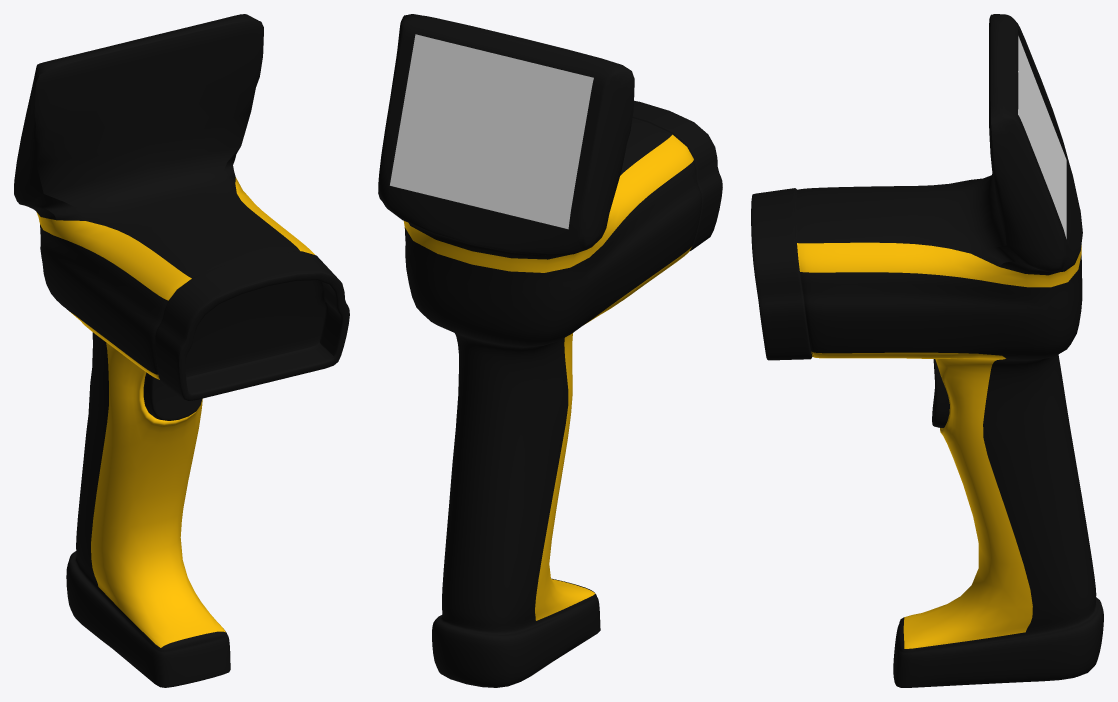
Rendered from OCRScanner.fbx.
3 views of the same model, side by side, from view 1: azimuth 30°, elevation 25°; view 2: azimuth 150°, elevation 25°; view 3: azimuth 270°, elevation 25° (orthographic). The views are drawn at different scales.
Visible parts, largest first — view 1: Housing, Head, Trigger; view 2: Housing, Screen, Head; view 3: Housing, Head, Screen, Trigger.
Part boxes in pixels (x1,y1,x2,y2): Housing: (14, 14, 314, 687); Head: (155, 251, 349, 400); Trigger: (143, 372, 202, 420); Housing: (378, 14, 701, 687); Screen: (390, 34, 593, 229); Head: (632, 100, 722, 250); Housing: (796, 14, 1103, 687); Head: (751, 188, 812, 360); Screen: (1018, 36, 1066, 238); Trigger: (932, 359, 949, 428).
Bounding box in the file's own units: 96.58 × 244 × 128.
